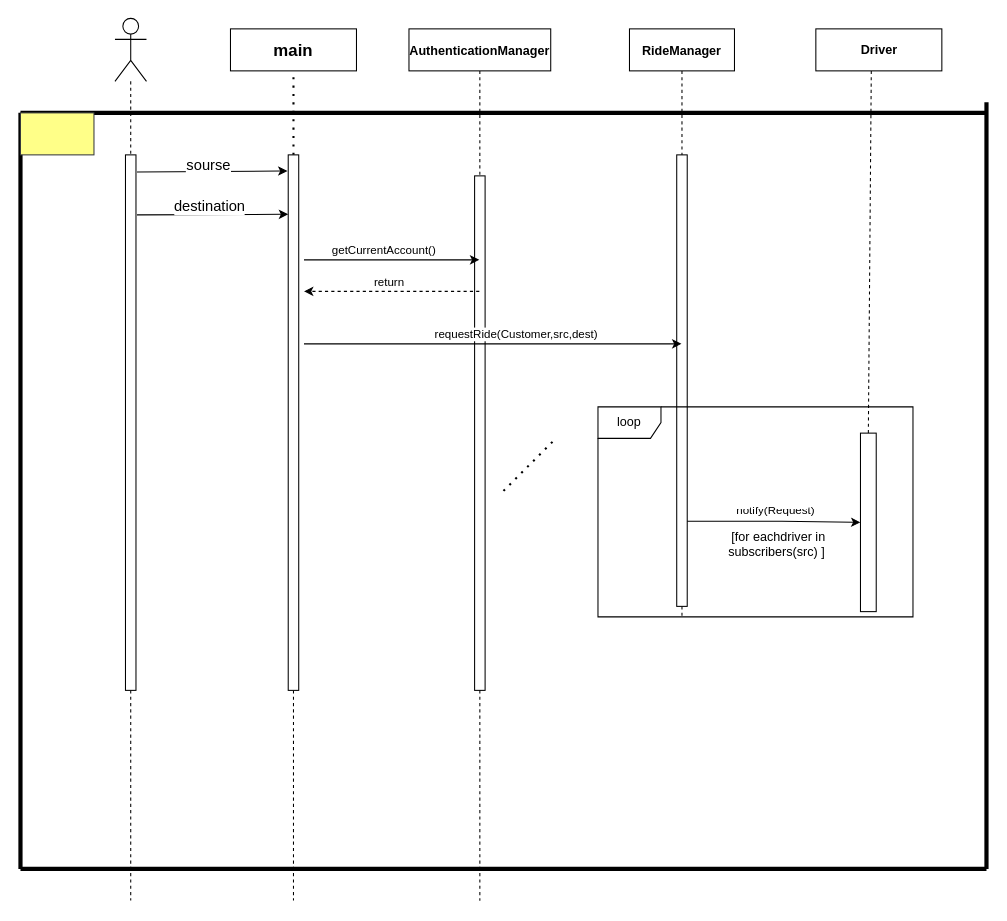
Image size: 1007x921. Some labels were removed from this diagram. The shapes that lost their labels are listed below. From the top down, each one's centre as x and y in pixels, then its label:
point (130, 49): Actor
point (56, 133): request ride
